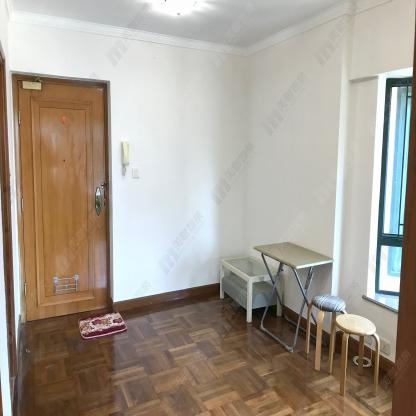Dining Table: (253, 241, 336, 270)
